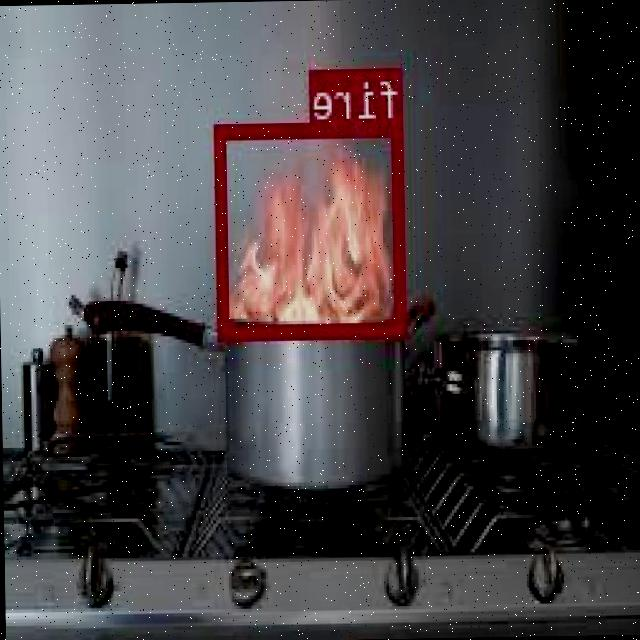fire: (216, 118, 410, 335)
